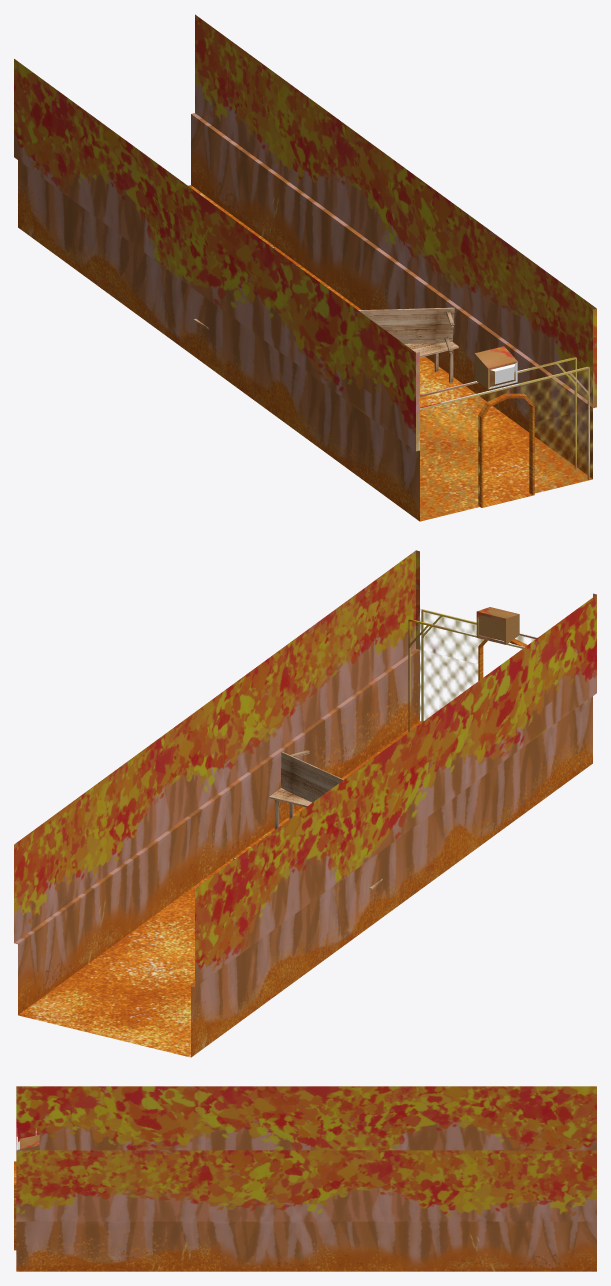
The model's file is corridor2_2.glb.
The picture shows the model from 3 angles, top to bottom: view 1: azimuth 30°, elevation 25°; view 2: azimuth 150°, elevation 25°; view 3: azimuth 270°, elevation 25°; orthographic projection. The views are drawn at different scales.
Visible parts, largest first — view 1: corridor_base.002, table_mesh.007, table_mesh.006; view 2: corridor_base.002, table_mesh.007; view 3: corridor_base.002.
Boxes of the visible parts, x1,y1,x2,y2 form: corridor_base.002: [14, 14, 596, 521]; table_mesh.007: [358, 307, 454, 353]; table_mesh.006: [404, 342, 458, 382]; corridor_base.002: [14, 550, 596, 1057]; table_mesh.007: [281, 750, 343, 802]; corridor_base.002: [14, 1086, 596, 1271].
Size of the model in its own units: 5.18 by 4.65 by 20.
2 materials, 2 textured.
